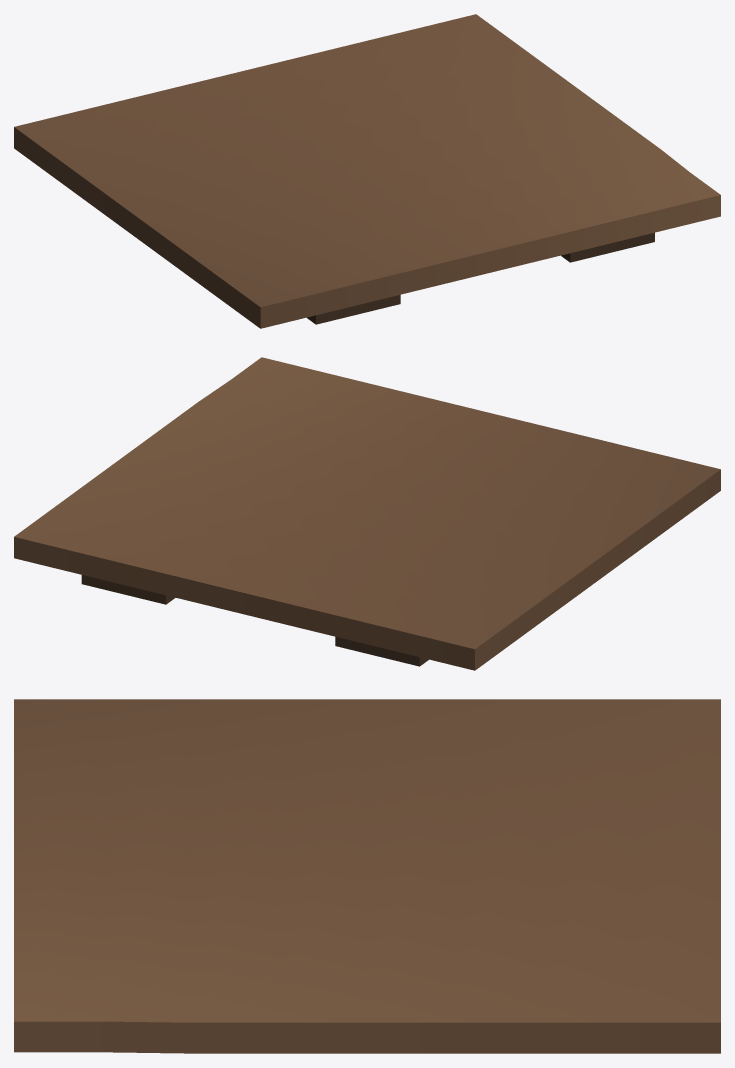
File: Tall Single Mid Crate Lid.fbx
3 renders of one model, top to bottom at view 1: azimuth 30°, elevation 25°; view 2: azimuth 150°, elevation 25°; view 3: azimuth 270°, elevation 25°, orthographic. The views are drawn at different scales.
Visible parts, largest first — view 1: Tall Mid Single Crate Lid; view 2: Tall Mid Single Crate Lid; view 3: Tall Mid Single Crate Lid.
Boxes of the visible parts, <box> form: Tall Mid Single Crate Lid: <box>14,14,720,328</box>; Tall Mid Single Crate Lid: <box>14,357,720,670</box>; Tall Mid Single Crate Lid: <box>14,699,720,1053</box>.
Size of the model in its own units: 17.23 by 208 by 226.
1 material, 1 textured.
